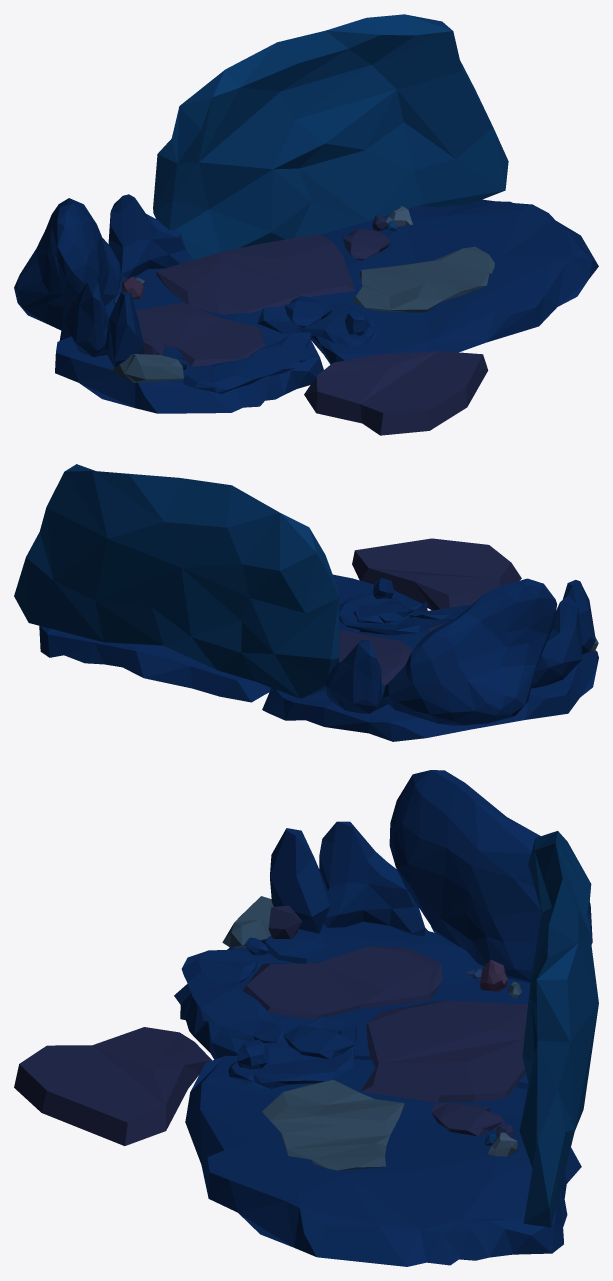
The model's file is Cave.glb.
3 renders of one model, top to bottom at view 1: azimuth 30°, elevation 25°; view 2: azimuth 150°, elevation 25°; view 3: azimuth 270°, elevation 25°, orthographic. The views are drawn at different scales.
Visible parts, largest first — view 1: Cave; view 2: Cave; view 3: Cave.
Boxes of the visible parts, box(x1,y1,x2,y2) form: Cave: box(14, 14, 598, 435); Cave: box(14, 464, 598, 741); Cave: box(14, 770, 598, 1266).
Size of the model in its own units: 14.27 by 5.8 by 10.6.
